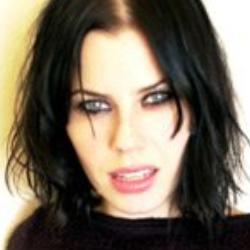face: (11, 2, 247, 237)
